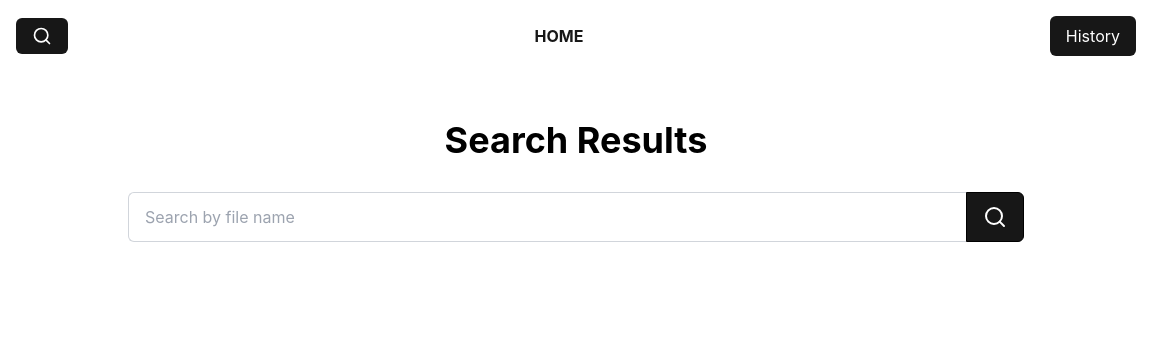
Search Component › displays an error message when no search term is entered
Click the button named "search" at (995, 217), box [966,192,1024,242]
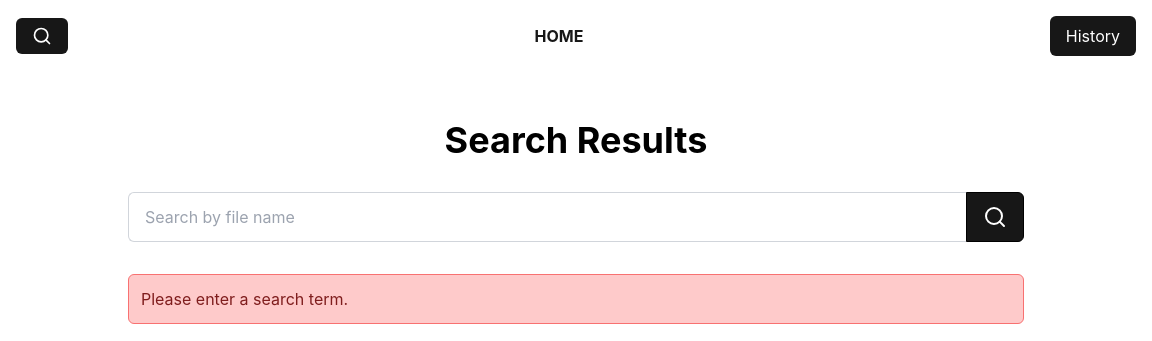
Expected: the text "Please enter a search term." is shown, [128,274,1024,324]
